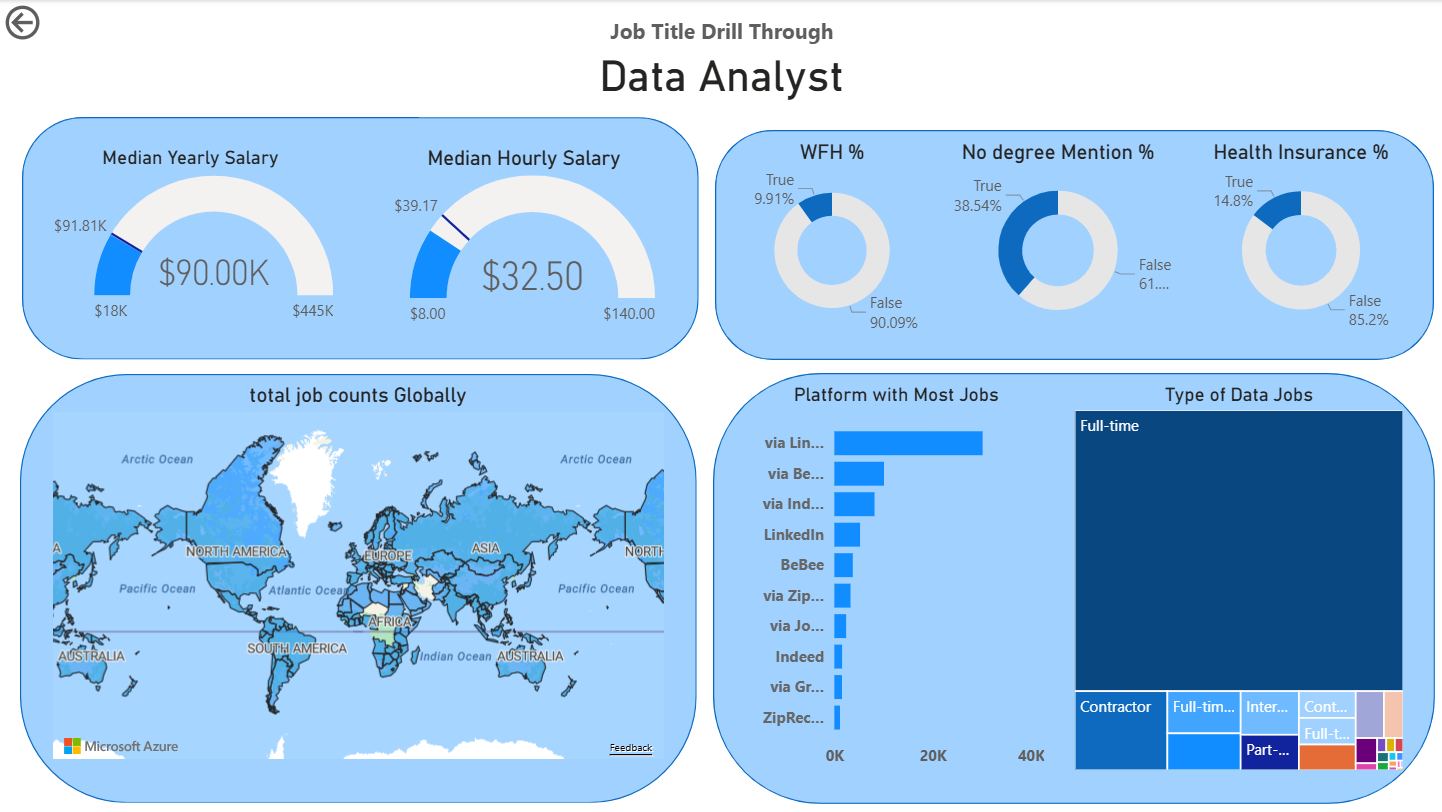

What the dashboard file says about the page in this screenshot:
{"tool":"powerbi","page":{"name":"Job Title Drill Through","canvas":[1280,720],"ordinal":1},"visuals":[{"type":"group","id":"g1","title":"bg","box":[17.6,103.9,1262.9,608.8],"z":0},{"type":"shape","box":[19.1,103.9,600,215.1],"z":0,"group":"g1"},{"type":"gauge","title":"Median Hourly Salary","fields":{"Y":["Median(job_postings_flat.salary_hour_avg)"],"TargetValue":["Avg(job_postings_flat.salary_hour_avg)1"],"MaxValue":["Max(job_postings_flat.salary_hour_avg)2"],"MinValue":["Min(job_postings_flat.salary_hour_avg)"]},"box":[323.6,129.5,282,166.7],"z":1000},{"type":"shape","box":[17.6,332.2,600,380.5],"z":1000,"group":"g1"},{"type":"gauge","title":"Median Yearly Salary","fields":{"Y":["Median(job_postings_flat.salary_year_avg)"],"MinValue":["Min(job_postings_flat.salary_year_avg)"],"MaxValue":["Max(job_postings_flat.salary_year_avg)1"],"TargetValue":["Avg(job_postings_flat.salary_year_avg)2"]},"box":[37.2,129.5,263.3,166.7],"z":2000},{"type":"shape","box":[630.8,332.2,649.8,380.5],"z":2000,"group":"g1"},{"type":"shape","box":[630.8,109.8,649.8,209.3],"z":3000,"group":"g1"},{"type":"donutChart","title":"WFH %","fields":{"Y":["CountNonNull(job_postings_flat.job_work_from_home)"],"Category":["job_postings_flat.job_work_from_home"]},"box":[640.2,124.1,195.1,174.7],"z":3000},{"type":"donutChart","title":"No degree Mention %","fields":{"Category":["job_postings_flat.job_no_degree_mention"],"Y":["CountNonNull(job_postings_flat.job_no_degree_mention)"]},"box":[828.2,124.1,219.9,174.7],"z":4000},{"type":"donutChart","title":"Health Insurance %","fields":{"Category":["job_postings_flat.job_health_insurance"],"Y":["CountNonNull(job_postings_flat.job_health_insurance)"]},"box":[1048.1,124.1,211,174.7],"z":5000},{"type":"cardVisual","fields":{"Data":["Min(job_postings_flat.job_title_short)"]},"box":[459.5,0,537.1,103.9],"z":6000},{"type":"actionButton","box":[0,0,100,40],"z":7000},{"type":"treemap","title":"Type of Data Jobs","fields":{"Values":["CountNonNull(job_postings_flat.job_schedule_type)"],"Group":["job_postings_flat.job_schedule_type"]},"box":[947.9,339.6,301.5,348.5],"z":8000},{"type":"azureMap","title":"total job counts Globally","fields":{"Category":["job_postings_flat.job_country"]},"box":[41.7,339.6,551.5,337.8],"z":9000},{"type":"barChart","title":"Platform with Most Jobs","fields":{"Category":["job_postings_flat.job_via"],"Y":["CountNonNull(job_postings_flat.job_via)"]},"box":[658.8,339.6,272.2,348.5],"z":10000},{"type":"qnaVisual","box":[1039.6,0,210.3,19.5],"z":11000}]}

Visuals, with their boxes in screenshot pixels (x1, y1, x2, y2), scaled from the page's 1280x720 canvas onto the 1442x812 screenshot:
"bg" group: 20 117 1441 804
shape: 22 117 697 360
"Median Hourly Salary" gauge: 365 146 682 334
shape: 20 375 696 804
"Median Yearly Salary" gauge: 42 146 339 334
shape: 711 375 1441 804
shape: 711 124 1441 360
"WFH %" donutChart: 721 140 941 337
"No degree Mention %" donutChart: 933 140 1181 337
"Health Insurance %" donutChart: 1181 140 1418 337
cardVisual - Min(job_postings_flat.job_title_short): 518 0 1123 117
actionButton: 0 0 113 45
"Type of Data Jobs" treemap: 1068 383 1408 776
"total job counts Globally" azureMap: 47 383 668 764
"Platform with Most Jobs" barChart: 742 383 1049 776
qnaVisual: 1171 0 1408 22
